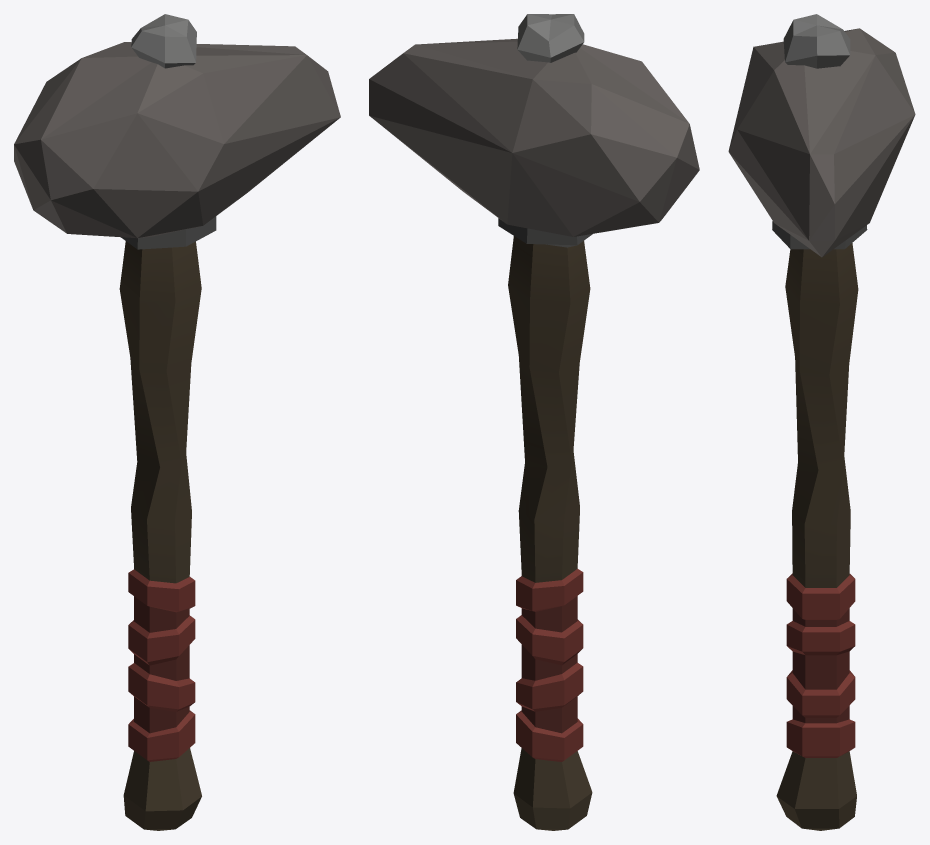
Rendered from SM_Wep_Hammer_Mace_Stone_01.glb.
The picture shows the model from 3 angles, left to right: view 1: azimuth 30°, elevation 25°; view 2: azimuth 150°, elevation 25°; view 3: azimuth 270°, elevation 25°; orthographic projection.
Parts seen in each view (by area): view 1: SM_Wep_Hammer_Mace_Stone_01; view 2: SM_Wep_Hammer_Mace_Stone_01; view 3: SM_Wep_Hammer_Mace_Stone_01.
Part boxes in pixels (<box>): SM_Wep_Hammer_Mace_Stone_01: <box>14,14,340,830</box>; SM_Wep_Hammer_Mace_Stone_01: <box>369,14,699,830</box>; SM_Wep_Hammer_Mace_Stone_01: <box>728,14,915,830</box>.
Bounding box in the file's own units: 0.00339 × 0.00842 × 0.00177.
1 material, 1 textured.
